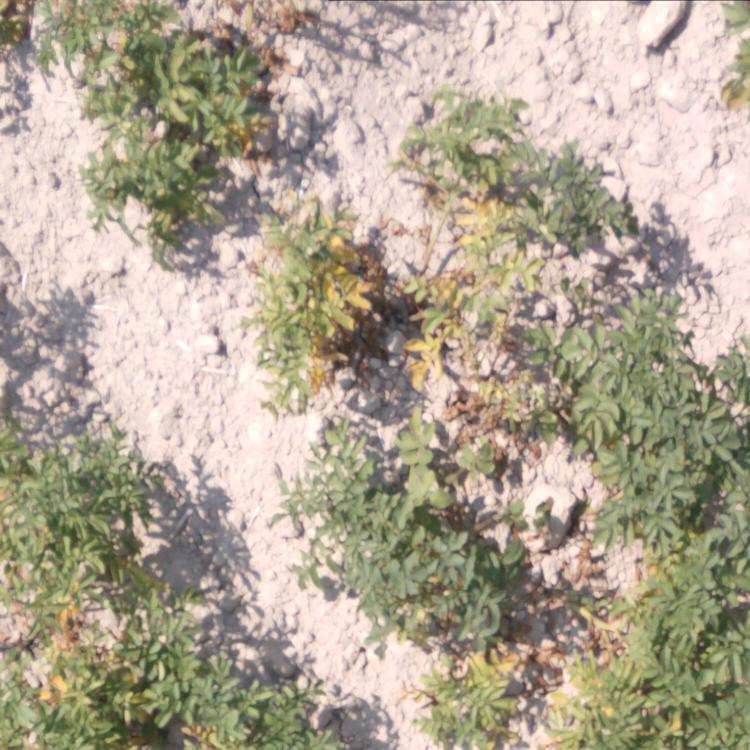healthy: (283, 456, 521, 628), (563, 304, 744, 529), (1, 445, 141, 578), (229, 656, 320, 750)
stressed: (60, 1, 282, 215), (1, 589, 220, 750), (569, 549, 739, 750), (397, 106, 621, 255), (395, 266, 544, 448), (248, 219, 386, 402), (397, 646, 558, 750), (712, 1, 750, 113)
